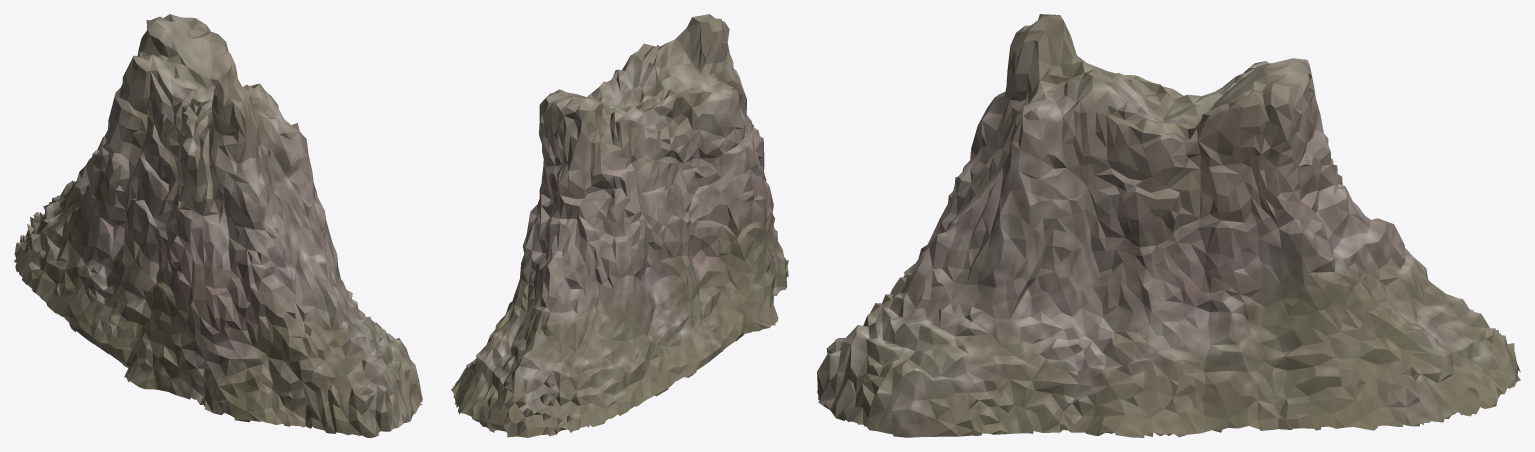
3 views of the same model, side by side, from view 1: azimuth 30°, elevation 25°; view 2: azimuth 150°, elevation 25°; view 3: azimuth 270°, elevation 25° (orthographic). The views are drawn at different scales.
Parts seen in each view (by area): view 1: defaultMaterial; view 2: defaultMaterial; view 3: defaultMaterial.
Boxes of the visible parts, box(x1,y1,x2,y2) form: defaultMaterial: box(14, 14, 422, 437); defaultMaterial: box(451, 14, 788, 437); defaultMaterial: box(817, 14, 1520, 437).
Size of the model in its own units: 2.87 by 3.74 by 6.79.
Materials: 1 (1 with a texture image).
